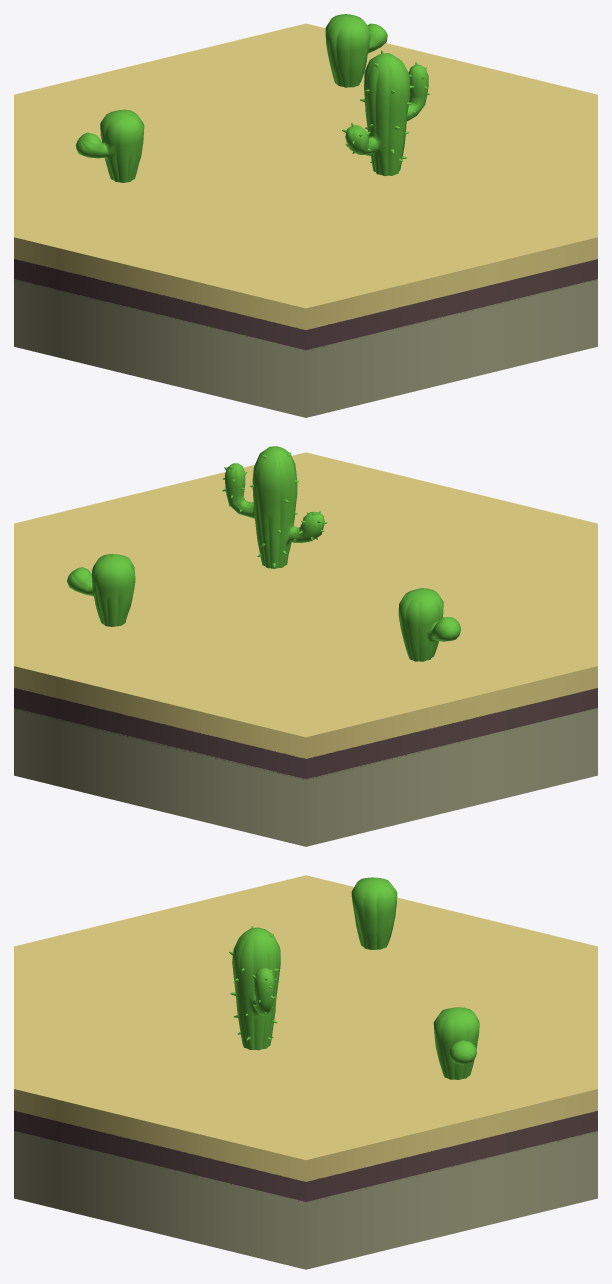
Rendered from 荒漠黄色地块.fbx.
3 views of the same model, one above another, from view 1: azimuth 30°, elevation 25°; view 2: azimuth 150°, elevation 25°; view 3: azimuth 270°, elevation 25° (orthographic).
Parts seen in each view (by area): view 1: Cylinder020; view 2: Cylinder020; view 3: Cylinder020.
Boxes of the visible parts, x1=… form: Cylinder020: x1=14, y1=14, x2=597, y2=417; Cylinder020: x1=14, y1=446, x2=597, y2=846; Cylinder020: x1=14, y1=875, x2=597, y2=1269.
Bounding box in the file's own units: 1996 × 736 × 1729.
